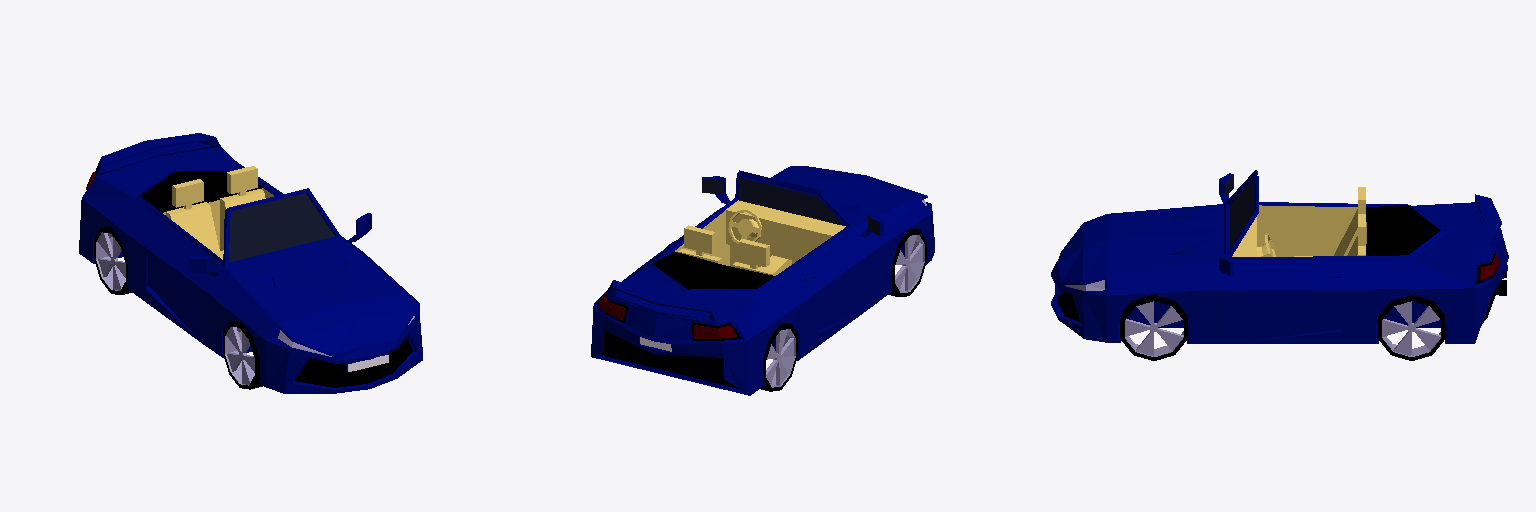
Rendered from roadster.obj.
The picture shows the model from 3 angles: view 1: azimuth 30°, elevation 25°; view 2: azimuth 150°, elevation 25°; view 3: azimuth 270°, elevation 25°; orthographic projection.
Parts seen in each view (by area): view 1: Roadster; view 2: Roadster; view 3: Roadster.
Boxes of the visible parts, <box> form: Roadster: <box>79,133,422,393</box>; Roadster: <box>591,166,934,395</box>; Roadster: <box>1051,170,1508,360</box>.
Bounding box in the file's own units: 2.63 × 1.84 × 5.73.